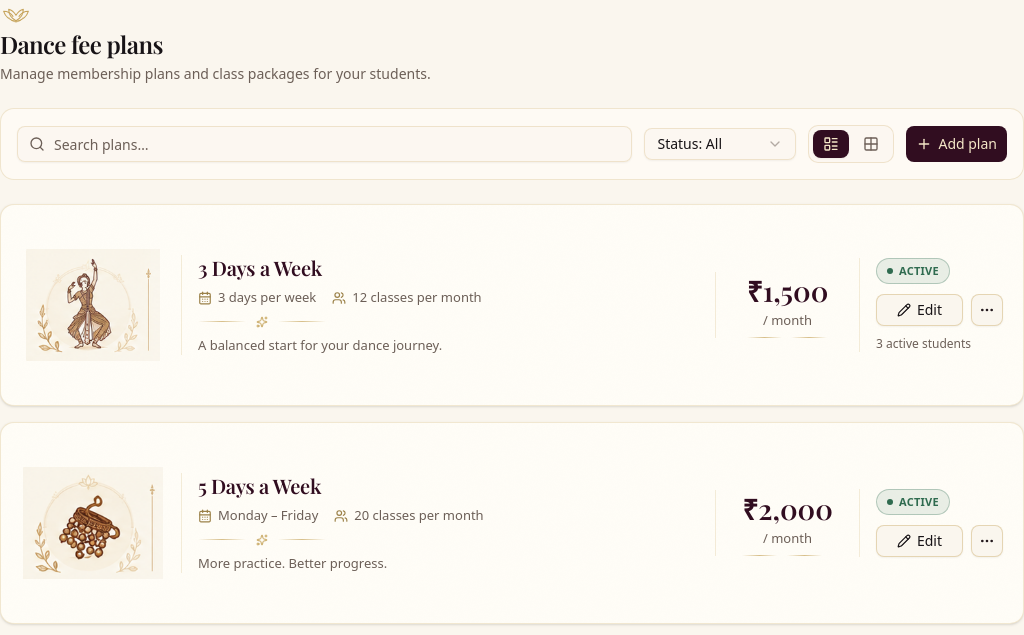
Test: PlansPage — dialogs › opens the edit dialog prefilled from the card
The width and height of the screenshot is (1024, 635).
Expected: the heading "3 Days a Week" is shown, [198,255,322,280]
Click the button with aria-label "Edit 3 Days a Week" at x=920, y=310, box [876,294,963,326]
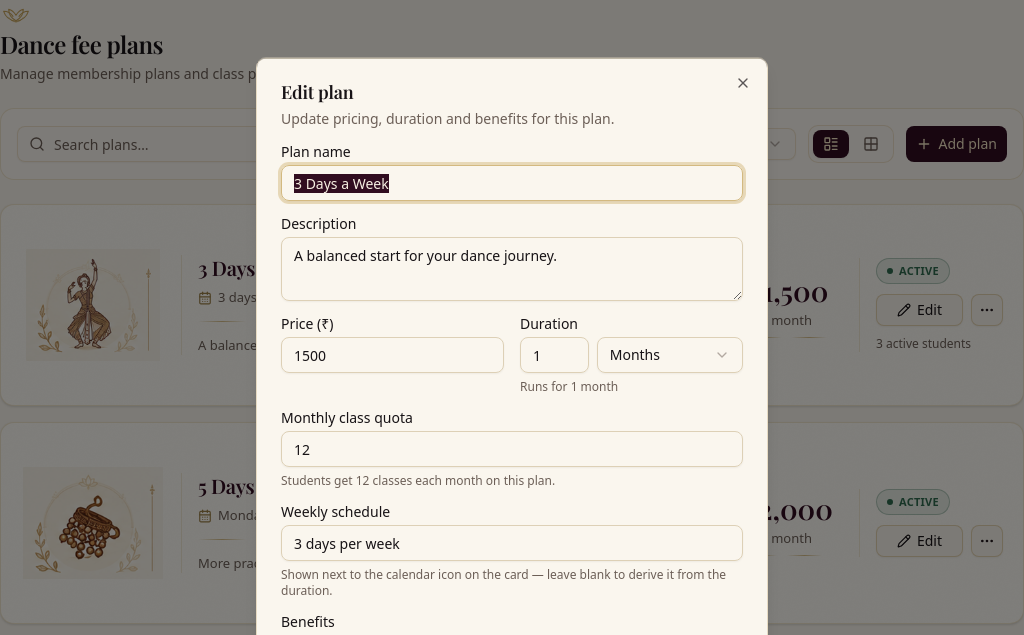
Expected: the heading "Edit plan" is shown, [281,80,354,104]
Expected: the field labelled "Plan name" holds "3 Days a Week", [281,165,743,201]
Expected: the number field labelled "Price (₹)" holds "1500", [281,337,504,373]
